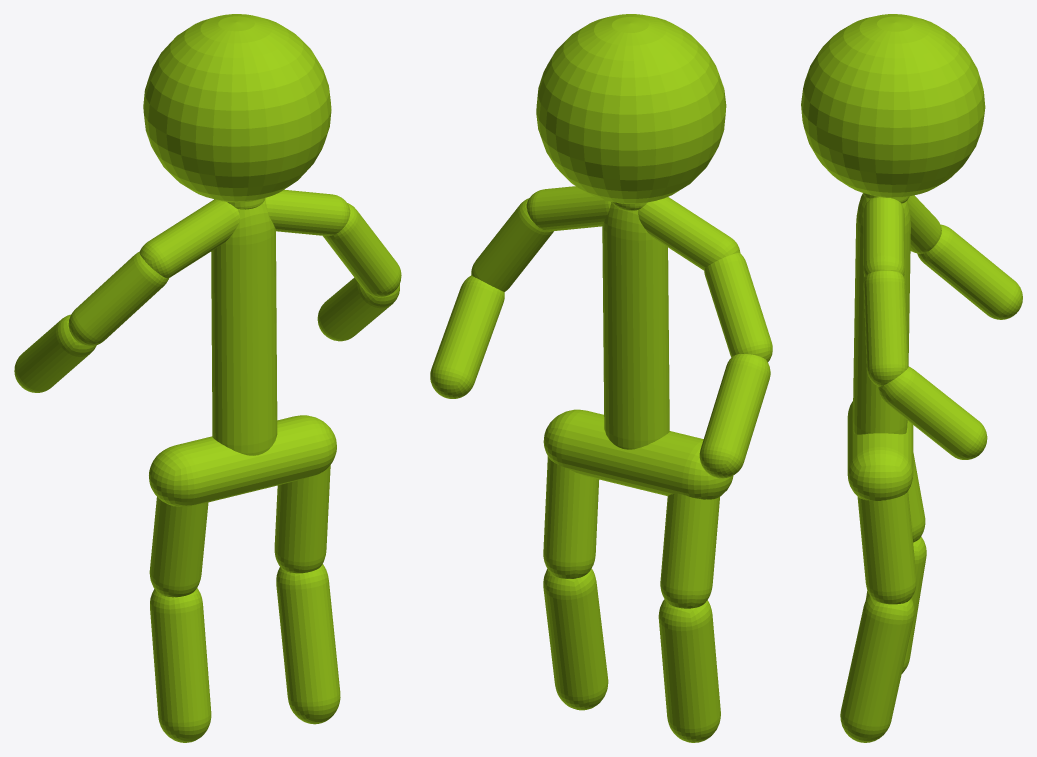
The model's file is Stickman_000011.obj.
3 renders of one model, left to right at view 1: azimuth 30°, elevation 25°; view 2: azimuth 150°, elevation 25°; view 3: azimuth 270°, elevation 25°, orthographic. The views are drawn at different scales.
Parts seen in each view (by area): view 1: Head_Sphere.001, Body_Roundcube.002, Hip_Roundcube.005, LowerLegLeft_Roundcube.013, LowerLegRight_Roundcube.011, UpperLegLeft_Roundcube.012, UpperLegRight_Roundcube.010, UpperArmRight_Roundcube.015, ShoulderRight_Roundcube.014, UpperArmLeft_Roundcube.018, LowerArmRight_Roundcube.016, ShoulderLeft_Roundcube.017 (+1 smaller); view 2: Head_Sphere.001, Body_Roundcube.002, Hip_Roundcube.005, LowerLegRight_Roundcube.011, LowerLegLeft_Roundcube.013, UpperLegRight_Roundcube.010, LowerArmRight_Roundcube.016, UpperLegLeft_Roundcube.012, LowerArmLeft_Roundcube.019, UpperArmRight_Roundcube.015, ShoulderRight_Roundcube.014, UpperArmLeft_Roundcube.018 (+1 smaller); view 3: Head_Sphere.001, LowerLegLeft_Roundcube.013, UpperLegLeft_Roundcube.012, LowerArmLeft_Roundcube.019, Body_Roundcube.002, LowerArmRight_Roundcube.016, UpperArmLeft_Roundcube.018, Hip_Roundcube.005, ShoulderLeft_Roundcube.017, UpperArmRight_Roundcube.015, LowerLegRight_Roundcube.011, UpperLegRight_Roundcube.010.
Part boxes in pixels (bbox=[...]): Head_Sphere.001: bbox=[143, 14, 331, 202]; Body_Roundcube.002: bbox=[211, 198, 277, 455]; Hip_Roundcube.005: bbox=[149, 415, 336, 506]; LowerLegLeft_Roundcube.013: bbox=[276, 564, 340, 724]; LowerLegRight_Roundcube.011: bbox=[150, 588, 211, 742]; UpperLegLeft_Roundcube.012: bbox=[274, 465, 330, 573]; UpperLegRight_Roundcube.010: bbox=[149, 497, 208, 597]; UpperArmRight_Roundcube.015: bbox=[68, 251, 168, 346]; ShoulderRight_Roundcube.014: bbox=[139, 199, 239, 278]; UpperArmLeft_Roundcube.018: bbox=[323, 203, 401, 296]; LowerArmRight_Roundcube.016: bbox=[14, 314, 96, 392]; ShoulderLeft_Roundcube.017: bbox=[265, 189, 350, 236]; Head_Sphere.001: bbox=[536, 14, 726, 203]; Body_Roundcube.002: bbox=[602, 202, 669, 449]; Hip_Roundcube.005: bbox=[543, 409, 733, 499]; LowerLegRight_Roundcube.011: bbox=[658, 599, 720, 742]; LowerLegLeft_Roundcube.013: bbox=[543, 568, 608, 710]; UpperLegRight_Roundcube.010: bbox=[660, 493, 719, 608]; LowerArmRight_Roundcube.016: bbox=[699, 354, 770, 478]; UpperLegLeft_Roundcube.012: bbox=[543, 456, 598, 578]; LowerArmLeft_Roundcube.019: bbox=[430, 275, 504, 398]; UpperArmRight_Roundcube.015: bbox=[704, 252, 772, 361]; ShoulderRight_Roundcube.014: bbox=[638, 197, 740, 270]; UpperArmLeft_Roundcube.018: bbox=[471, 198, 553, 291]; Head_Sphere.001: bbox=[801, 14, 985, 198]; LowerLegLeft_Roundcube.013: bbox=[840, 595, 914, 742]; UpperLegLeft_Roundcube.012: bbox=[857, 491, 916, 604]; LowerArmLeft_Roundcube.019: bbox=[878, 366, 987, 459]; Body_Roundcube.002: bbox=[852, 193, 910, 434]; LowerArmRight_Roundcube.016: bbox=[917, 224, 1022, 319]; UpperArmLeft_Roundcube.018: bbox=[863, 270, 908, 386]; Hip_Roundcube.005: bbox=[847, 401, 913, 500]; ShoulderLeft_Roundcube.017: bbox=[863, 197, 904, 276]; UpperArmRight_Roundcube.015: bbox=[907, 195, 941, 253]; LowerLegRight_Roundcube.011: bbox=[865, 536, 926, 673]; UpperLegRight_Roundcube.010: bbox=[908, 453, 925, 542].
Bounding box in the file's own units: 5.08 × 10.41 × 3.04.
